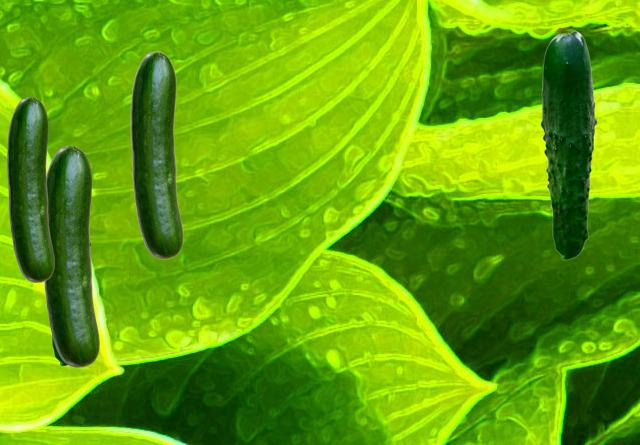cucumber: (540, 30, 596, 259), (44, 146, 98, 366), (130, 51, 182, 258), (7, 97, 53, 281), (51, 336, 66, 365)
